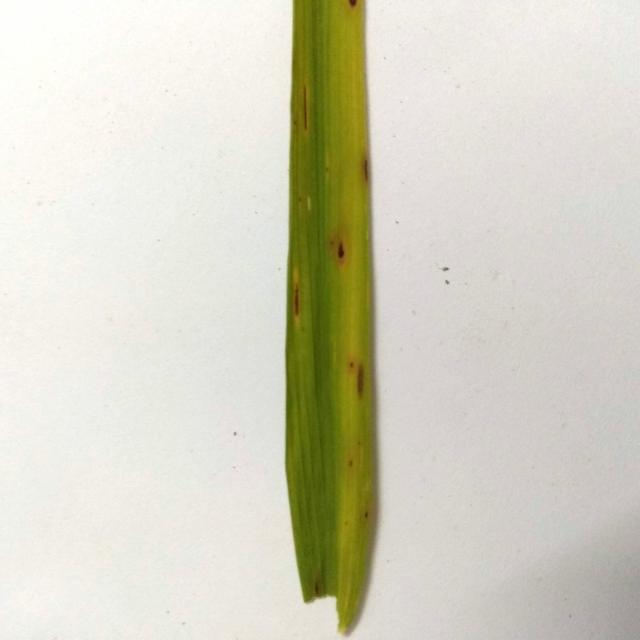brownspots: (348, 350, 372, 410), (328, 233, 357, 273), (362, 137, 370, 191), (343, 0, 361, 12)
